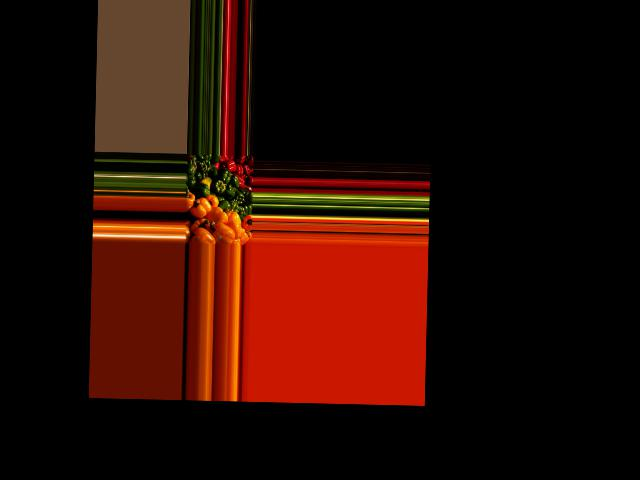bell_pepper: (185, 154, 197, 170)
